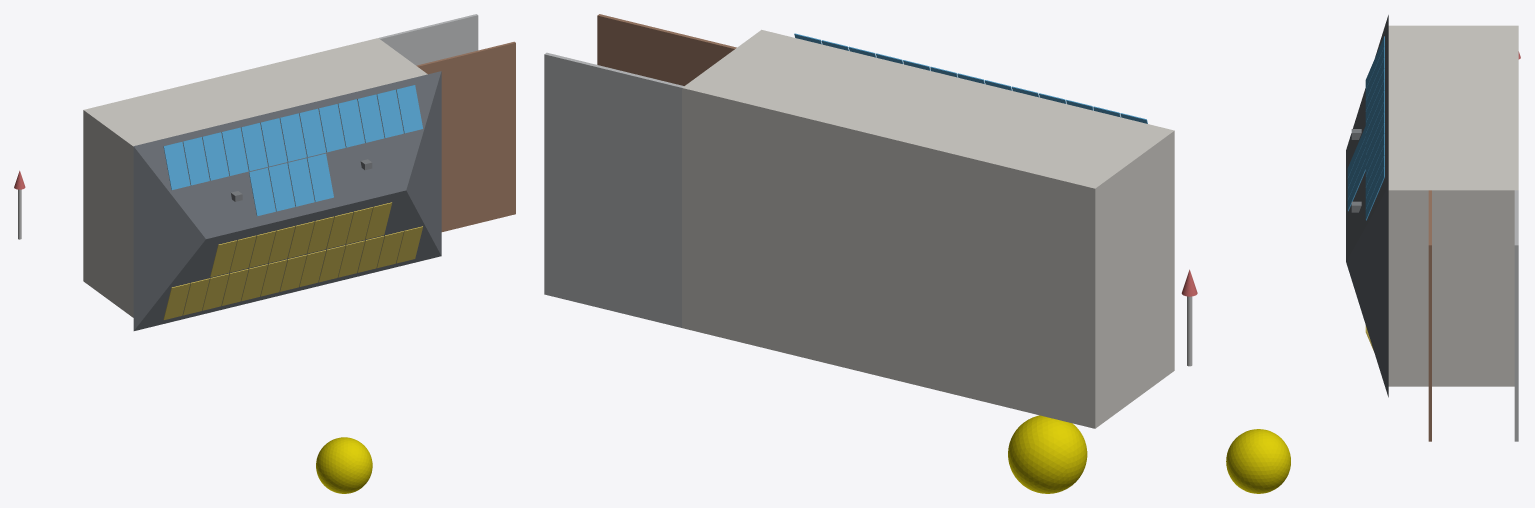
File: generated_ed327efb91.glb
3 views of the same model, side by side, from view 1: azimuth 30°, elevation 25°; view 2: azimuth 150°, elevation 25°; view 3: azimuth 270°, elevation 25° (orthographic). The views are drawn at different scales.
Visible parts, largest first — view 1: hip_roof, house_body, front_porch_roof, front_porch_slab, world, solar_panel_24, solar_panel_36, solar_panel_26, solar_panel_28, solar_panel_22, solar_panel_27, solar_panel_31 (+32 smaller); view 2: house_body, front_porch_slab, front_porch_roof, world; view 3: house_body, hip_roof, world, front_porch_slab, front_porch_roof.
Part boxes in pixels (x1=…): hip_roof: x1=133, y1=71, x2=441, y2=330; house_body: x1=83, y1=38, x2=427, y2=317; front_porch_roof: x1=416, y1=41, x2=515, y2=231; front_porch_slab: x1=379, y1=14, x2=478, y2=65; world: x1=14, y1=170, x2=372, y2=493; solar_panel_24: x1=202, y1=132, x2=228, y2=180; solar_panel_36: x1=268, y1=163, x2=295, y2=211; solar_panel_26: x1=241, y1=122, x2=267, y2=171; solar_panel_28: x1=280, y1=113, x2=306, y2=161; solar_panel_22: x1=163, y1=142, x2=190, y2=189; solar_panel_27: x1=260, y1=118, x2=287, y2=166; solar_panel_31: x1=338, y1=99, x2=364, y2=147; house_body: x1=682, y1=29, x2=1174, y2=428; front_porch_slab: x1=544, y1=52, x2=683, y2=327; front_porch_roof: x1=597, y1=14, x2=736, y2=85; world: x1=1008, y1=269, x2=1197, y2=493; house_body: x1=1388, y1=25, x2=1518, y2=386; hip_roof: x1=1346, y1=15, x2=1388, y2=397; world: x1=1226, y1=51, x2=1520, y2=493; front_porch_slab: x1=1514, y1=190, x2=1518, y2=441; front_porch_roof: x1=1428, y1=190, x2=1431, y2=441.
Size of the model in its own units: 28.3 by 19.9 by 13.6.
